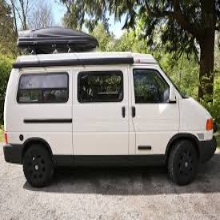no damage: (3, 51, 217, 188)
